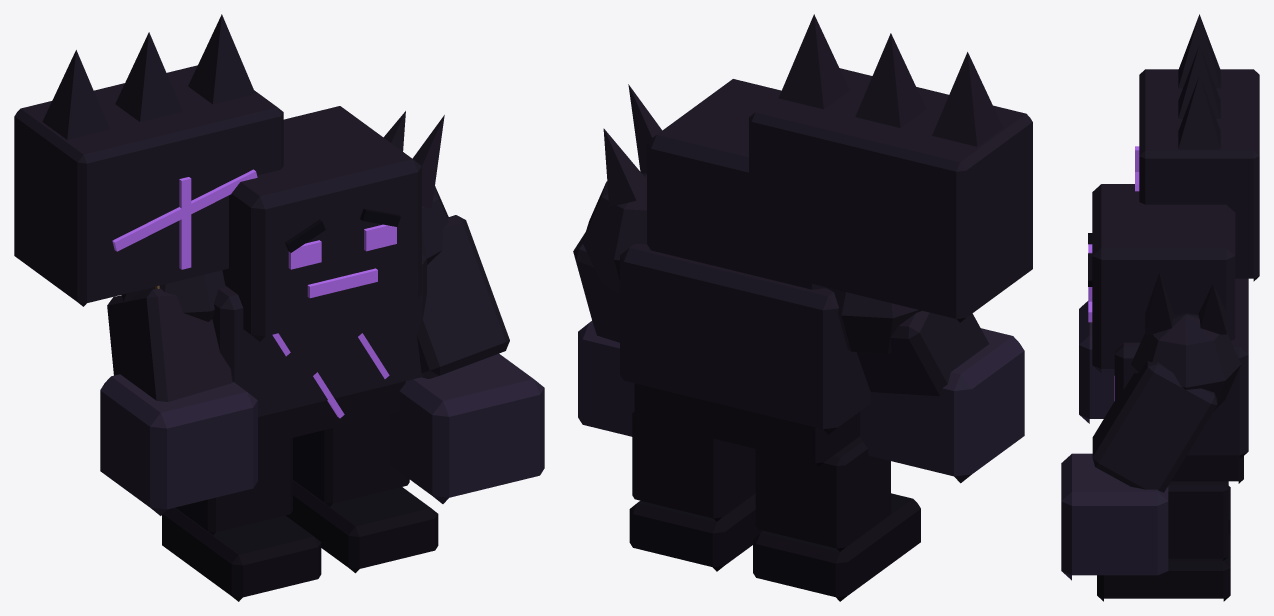
The model's file is r16_mini_obsidian_crusher.glb.
3 views of the same model, side by side, from view 1: azimuth 30°, elevation 25°; view 2: azimuth 150°, elevation 25°; view 3: azimuth 270°, elevation 25° (orthographic). The views are drawn at different scales.
Visible parts, largest first — view 1: r16_mini_obsidian_crusher_mesh; view 2: r16_mini_obsidian_crusher_mesh; view 3: r16_mini_obsidian_crusher_mesh.
Part boxes in pixels (box(x1,y1,x2,y2)): r16_mini_obsidian_crusher_mesh: box(14, 14, 544, 601); r16_mini_obsidian_crusher_mesh: box(573, 14, 1032, 601); r16_mini_obsidian_crusher_mesh: box(1061, 14, 1259, 601).
Bounding box in the file's own units: 3.47 × 4.2 × 1.63.
1 material, 1 textured.
